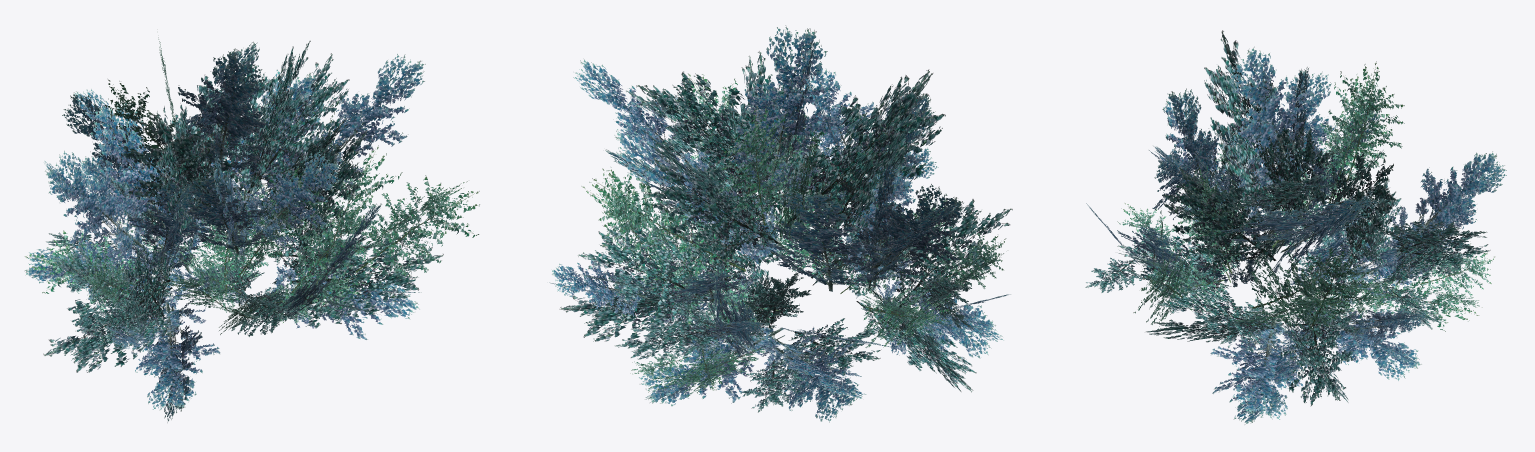
Rendered from SM_TreeBranches_01.fbx.
3 renders of one model, left to right at view 1: azimuth 30°, elevation 25°; view 2: azimuth 150°, elevation 25°; view 3: azimuth 270°, elevation 25°, orthographic. The views are drawn at different scales.
Visible parts, largest first — view 1: Branches; view 2: Branches; view 3: Branches.
Part boxes in pixels (x1=…): Branches: x1=24, y1=37, x2=479, y2=422; Branches: x1=549, y1=25, x2=1012, y2=422; Branches: x1=1085, y1=30, x2=1506, y2=424.
Bounding box in the file's own units: 538 × 432 × 542.
Materials: 1 (1 with a texture image).
